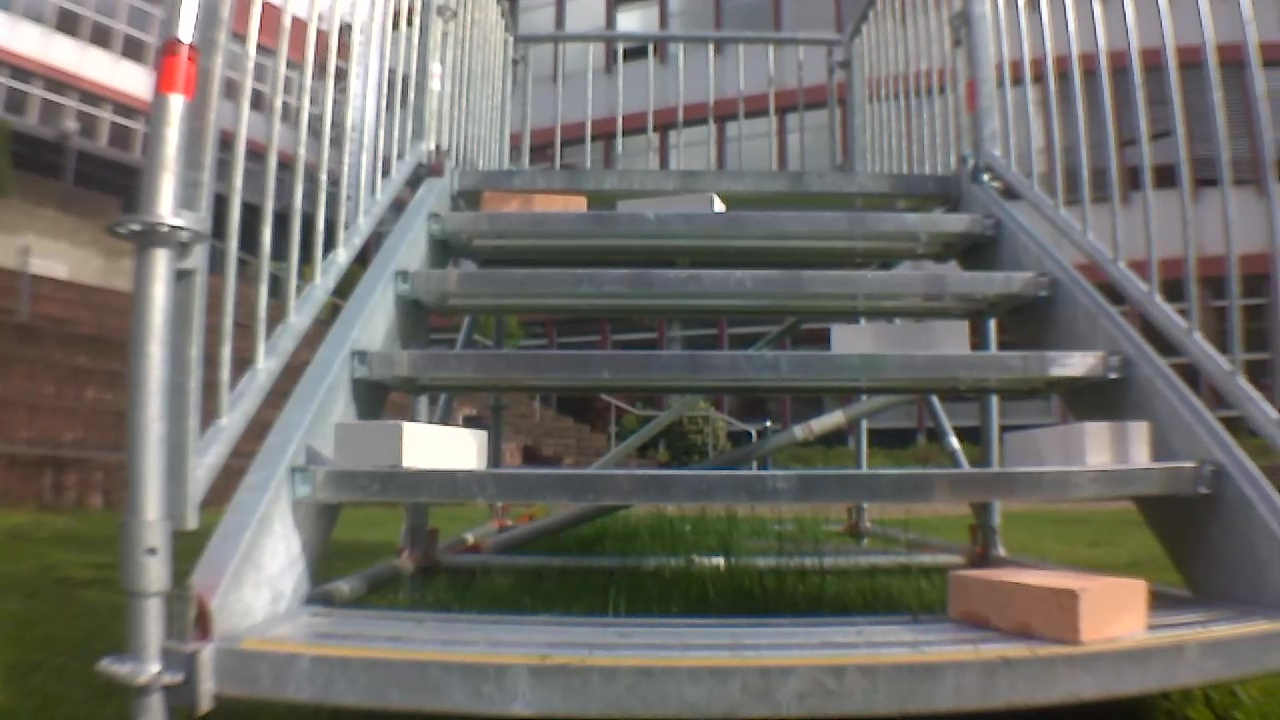brick: (949, 567, 1147, 641), (334, 422, 487, 468), (1004, 421, 1152, 464), (831, 320, 967, 352), (617, 191, 726, 212), (481, 192, 587, 212)
edge: (214, 628, 1277, 714), (288, 464, 1221, 501), (347, 349, 1130, 378), (395, 270, 1064, 293), (430, 212, 1003, 233), (453, 170, 958, 192)
stairs: (112, 2, 1280, 720)
steps: (207, 167, 1280, 720)
